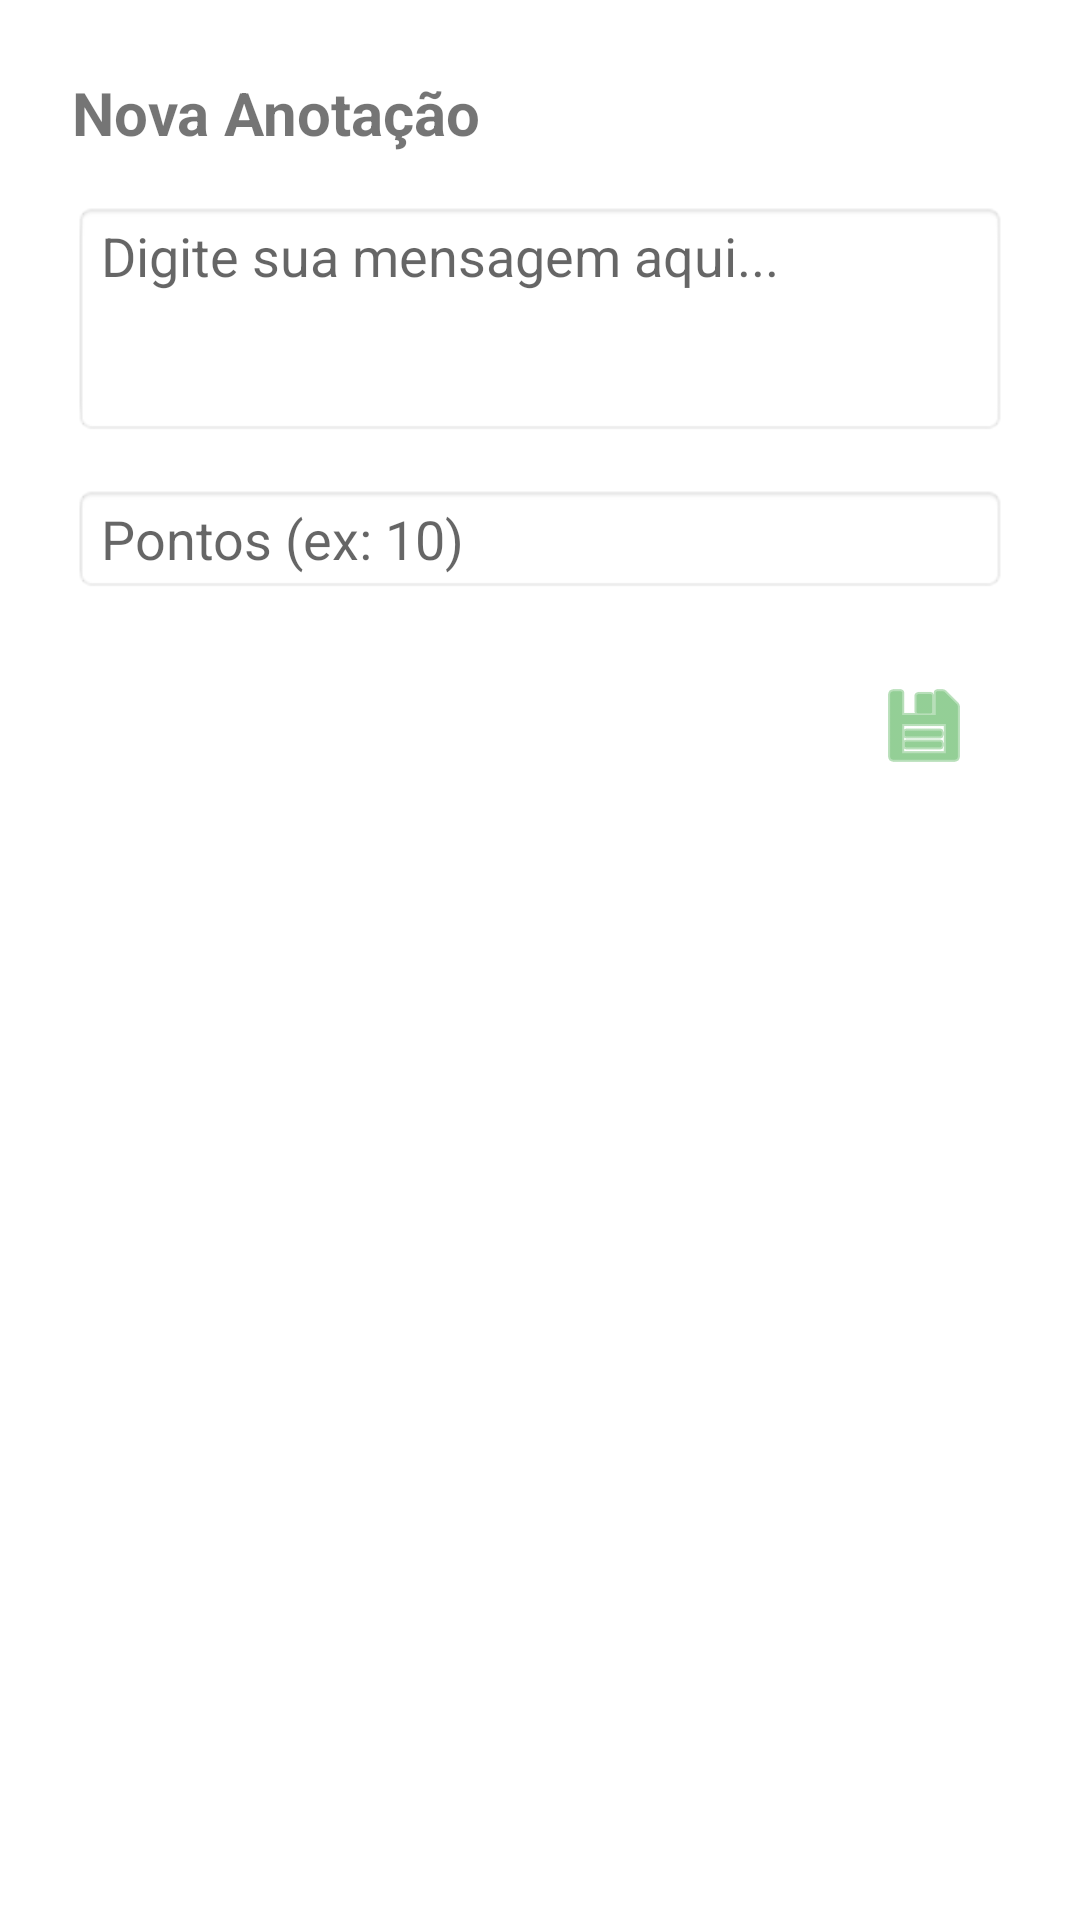

Screen size 1080px x 1920px. Icon name, then its box in pixels as (x1, y1, x2, y2):
Salvar mensagem: (888, 689, 960, 762)
